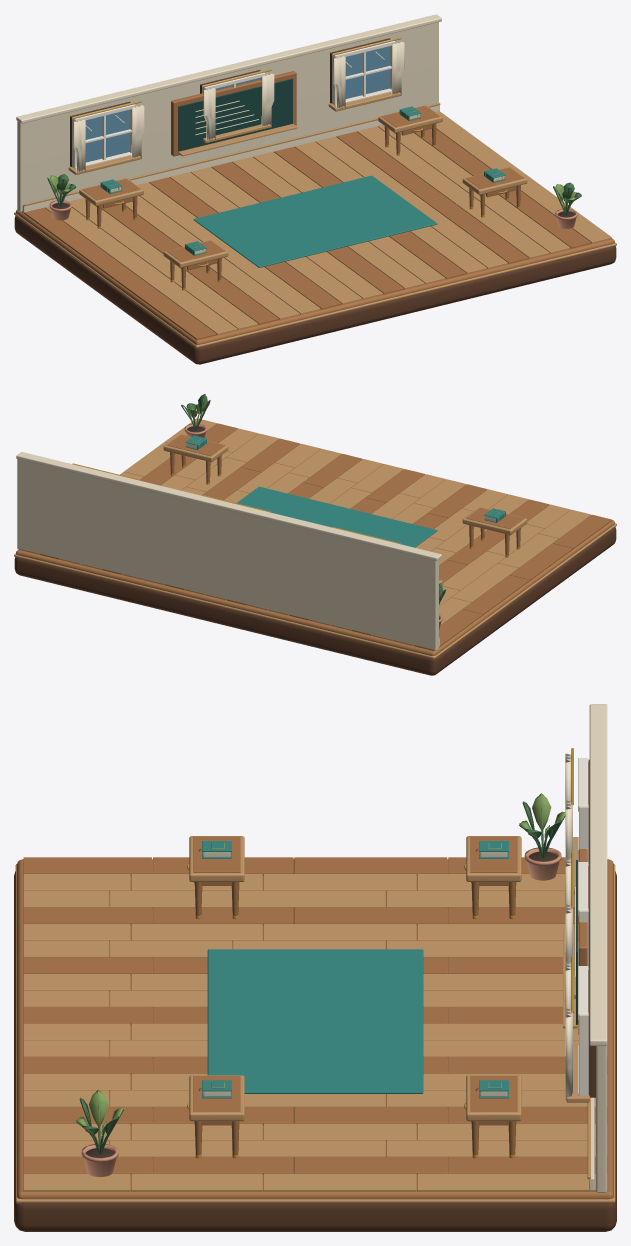
File: campus.glb
The picture shows the model from 3 angles, top to bottom: view 1: azimuth 30°, elevation 25°; view 2: azimuth 150°, elevation 25°; view 3: azimuth 270°, elevation 25°; orthographic projection. The views are drawn at different scales.
Visible parts, largest first — view 1: Crafted_wood_light, Crafted_wood, Crafted_plaster, Crafted_teal, Crafted_edge, Crafted_cream, Crafted_dark, Crafted_blue, Crafted_white, Crafted_brass, Crafted_leaf, Crafted_ceramic; view 2: Crafted_plaster, Crafted_wood_light, Crafted_wood, Crafted_edge, Crafted_teal, Crafted_cream, Crafted_brass, Crafted_leaf; view 3: Crafted_wood_light, Crafted_wood, Crafted_teal, Crafted_edge, Crafted_cream, Crafted_white, Crafted_plaster, Crafted_ceramic, Crafted_lightleaf, Crafted_leaf, Crafted_brass.
Part boxes in pixels (x1,y1,x2,y2): Crafted_wood_light: (14, 92, 616, 347); Crafted_wood: (16, 71, 614, 344); Crafted_plaster: (17, 22, 438, 212); Crafted_teal: (100, 106, 505, 267); Crafted_edge: (14, 38, 616, 364); Crafted_cream: (16, 14, 441, 212); Crafted_dark: (178, 78, 292, 151); Crafted_blue: (85, 46, 389, 162); Crafted_white: (72, 39, 395, 168); Crafted_brass: (72, 37, 520, 290); Crafted_leaf: (47, 174, 581, 215); Crafted_ceramic: (49, 200, 577, 228); Crafted_plaster: (17, 459, 438, 651); Crafted_wood_light: (14, 418, 616, 659); Crafted_wood: (16, 423, 614, 655); Crafted_edge: (14, 527, 616, 675); Crafted_teal: (185, 435, 505, 547); Crafted_cream: (16, 452, 441, 646); Crafted_brass: (72, 439, 520, 557); Crafted_leaf: (181, 394, 445, 604); Crafted_wood_light: (15, 836, 615, 1203); Crafted_wood: (17, 836, 613, 1199); Crafted_teal: (202, 841, 508, 1098); Crafted_edge: (14, 759, 616, 1231); Crafted_cream: (565, 704, 607, 1190); Crafted_white: (578, 758, 588, 1095); Crafted_plaster: (596, 1045, 606, 1192); Crafted_ceramic: (81, 847, 561, 1176); Crafted_lightleaf: (76, 793, 565, 1135); Crafted_leaf: (76, 794, 565, 1154); Crafted_brass: (187, 748, 573, 1158).
Bounding box in the file's own units: 13 × 3.49 × 9.8.
